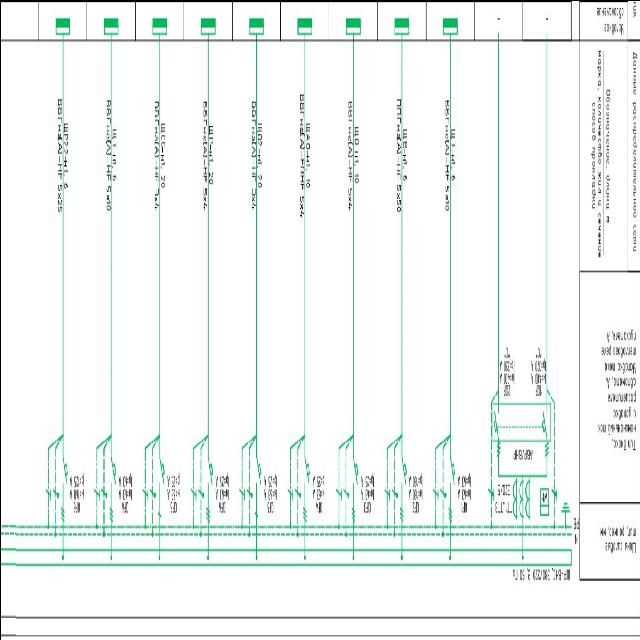-: (529, 342, 545, 384), (498, 342, 514, 384), (68, 472, 84, 501), (407, 472, 423, 501), (213, 472, 229, 501), (117, 472, 133, 501), (165, 471, 181, 500), (360, 471, 376, 500), (310, 471, 326, 500), (456, 472, 472, 501), (262, 470, 278, 499), (552, 564, 570, 582), (496, 482, 509, 498)
AVR: (512, 443, 533, 463)
QF: (59, 452, 68, 522), (447, 454, 455, 524), (400, 452, 408, 522), (302, 452, 310, 522), (108, 452, 116, 522), (254, 453, 262, 518), (156, 453, 164, 518), (351, 453, 358, 523), (205, 452, 212, 522), (492, 403, 500, 457), (540, 404, 548, 458)
TT: (510, 476, 530, 520)
WH: (538, 486, 548, 517)
